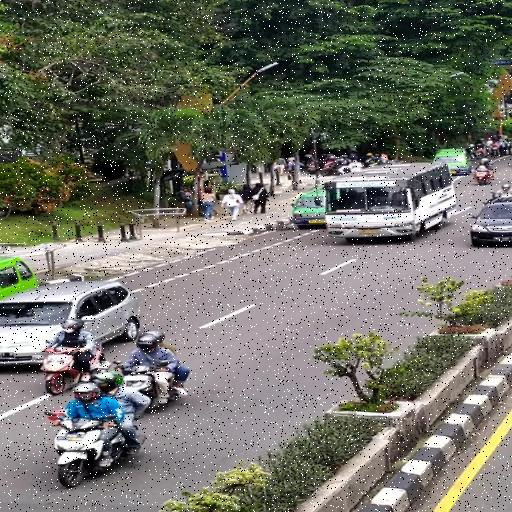Helmet: (93, 372, 123, 391), (136, 332, 164, 351), (74, 383, 100, 403), (61, 319, 83, 333), (141, 331, 165, 343), (502, 183, 510, 191), (481, 158, 488, 163), (367, 153, 373, 157), (469, 144, 474, 147)
Motor: (44, 411, 114, 487), (118, 361, 170, 407), (41, 347, 82, 395), (320, 156, 351, 175), (320, 155, 337, 175), (475, 165, 491, 185), (334, 156, 351, 174), (364, 156, 387, 167), (306, 155, 316, 174), (466, 144, 477, 160)
